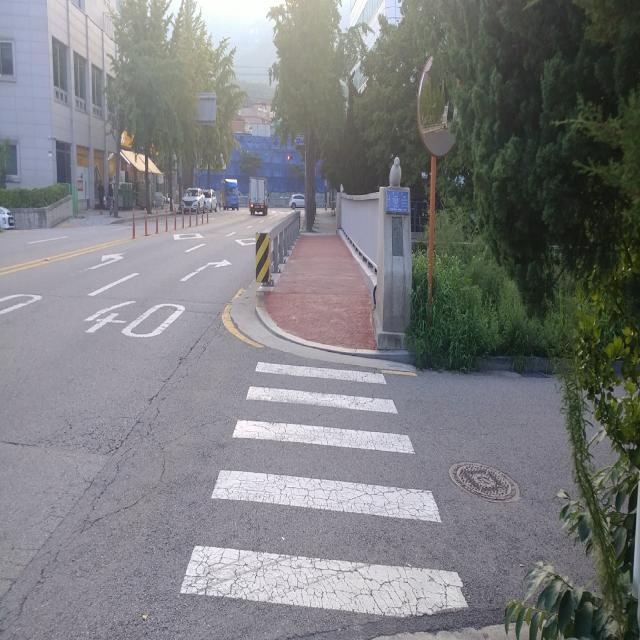횡단보도: (180, 362, 468, 617)
